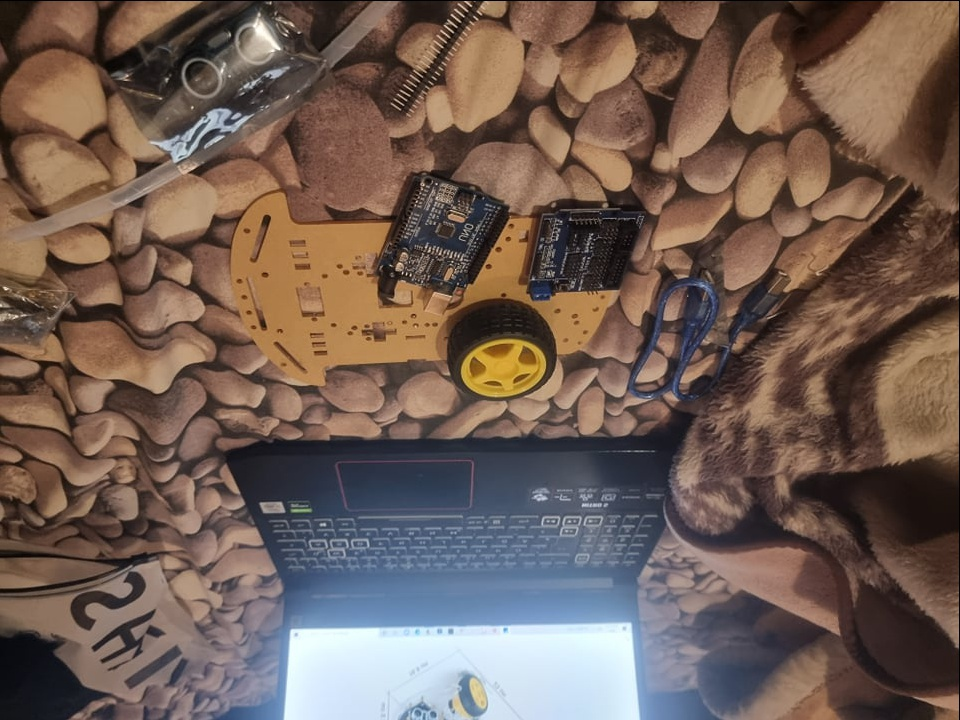5V EXPANSION: (526, 207, 646, 301)
SENSOR: (181, 10, 291, 99)
UNO R3: (372, 169, 514, 316)
